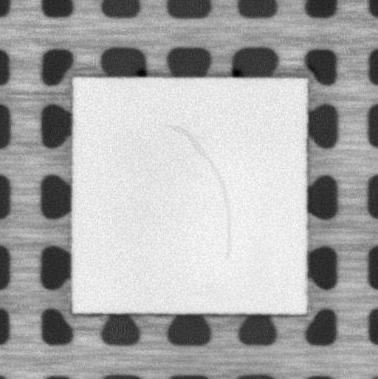DIE_CRACK: (170, 123, 232, 259)
